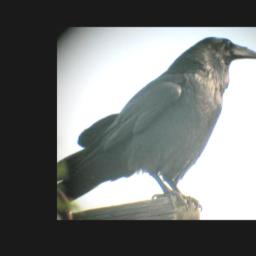Crow: (57, 35, 256, 212)
